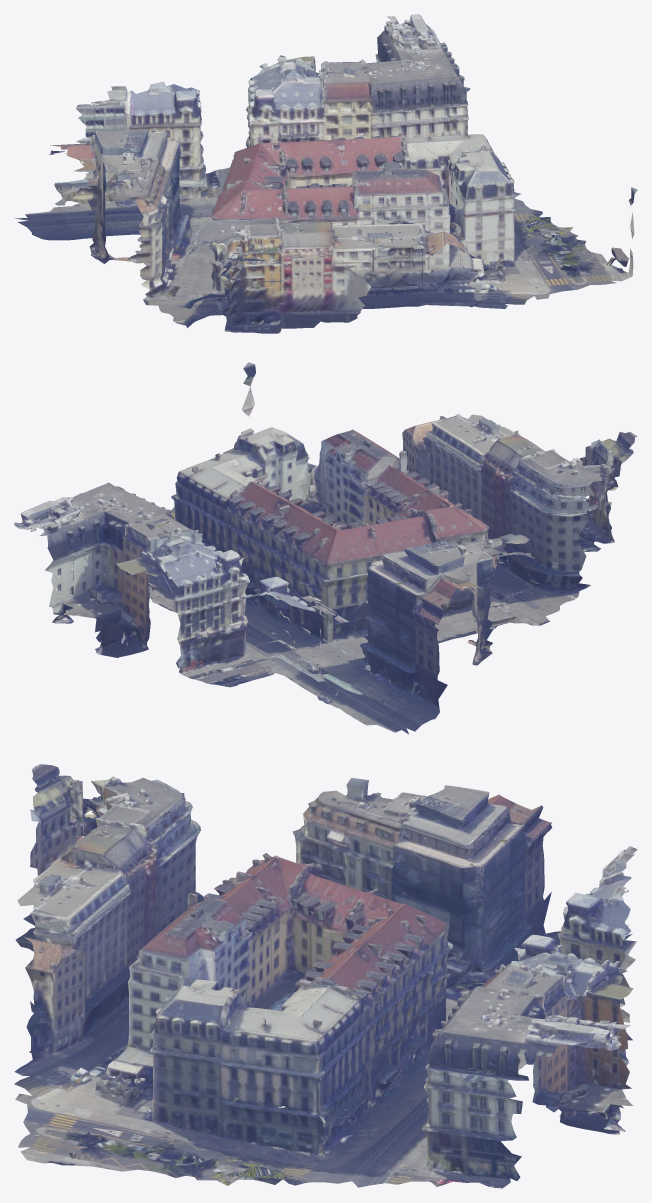
3 renders of one model, top to bottom at view 1: azimuth 30°, elevation 25°; view 2: azimuth 150°, elevation 25°; view 3: azimuth 270°, elevation 25°, orthographic. The views are drawn at different scales.
Bounding box in the file's own units: 107 × 32.26 × 107.
1 material, 1 textured.
